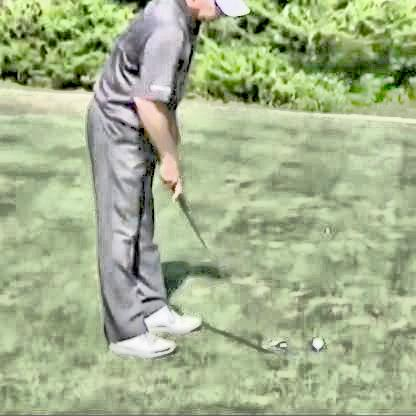golfball: (308, 333, 319, 346)
